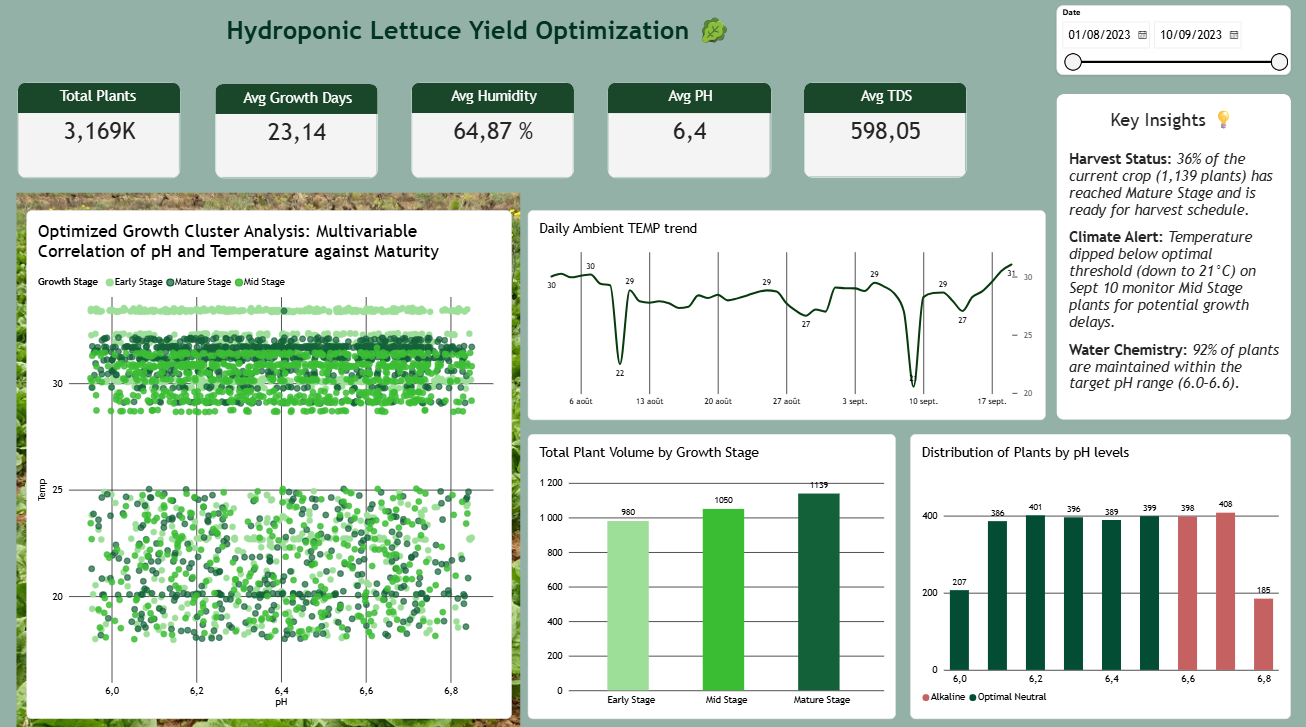

What the dashboard file says about the page in this screenshot:
{"tool":"powerbi","page":{"name":"Page 1","canvas":[1920,1080],"ordinal":0},"visuals":[{"type":"cardVisual","fields":{"Data":["Measures Table.Total Plants"]},"box":[28.2,122.7,238.6,140],"z":0,"group":"g1"},{"type":"cardVisual","fields":{"Data":["Measures Table.Average Humidity"]},"box":[605.4,122.7,238.6,140],"z":0,"group":"g3"},{"type":"cardVisual","fields":{"Data":["Measures Table.Average pH"]},"box":[892.8,122.7,240,140],"z":0,"group":"g4"},{"type":"cardVisual","fields":{"Data":["Measures Table.Average TDS"]},"box":[1181.1,122.7,238.5,139.5],"z":0,"group":"g5"},{"type":"cardVisual","fields":{"Data":["Measures Table.Average Growth Days"]},"box":[316.8,124.1,238.6,138.6],"z":0,"group":"g2"},{"type":"image","box":[25.7,284.3,739.2,796.1],"z":500},{"type":"textbox","box":[2,18,1405.8,94.7],"z":1000},{"type":"shape","box":[28.2,122.7,238.6,44.6],"z":1000,"group":"g1"},{"type":"shape","box":[605.4,122.7,238.6,44.6],"z":1000,"group":"g3"},{"type":"shape","box":[892.8,122.7,240,44.6],"z":1000,"group":"g4"},{"type":"shape","box":[1181.1,122.7,238.5,44.5],"z":1000,"group":"g5"},{"type":"shape","box":[316.8,124.1,238.6,44.2],"z":1000,"group":"g2"},{"type":"slicer","fields":{"Values":["Calendar.Date"]},"box":[1552,10,344,102],"z":2000},{"type":"textbox","box":[57,130.8,183,62.9],"z":2000,"group":"g1"},{"type":"textbox","box":[634.2,130.8,183,62.9],"z":2000,"group":"g3"},{"type":"textbox","box":[921.8,130.8,184.1,62.9],"z":2000,"group":"g4"},{"type":"textbox","box":[1209.9,130.8,183,62.7],"z":2000,"group":"g5"},{"type":"textbox","box":[345.6,132.1,183,62.3],"z":2000,"group":"g2"},{"type":"group","id":"g1","title":"Group 1","box":[28.2,122.7,238.6,140],"z":3000},{"type":"group","id":"g2","title":"Group 1","box":[316.8,124.1,238.6,138.6],"z":4000},{"type":"group","id":"g3","title":"Group 1","box":[605.4,122.7,238.6,140],"z":5000},{"type":"group","id":"g4","title":"Group 1","box":[892.8,122.7,240,140],"z":6000},{"type":"scatterChart","title":"Optimized Growth Cluster Analysis: Multivariable Correlation of pH and Temperature against Maturity","fields":{"Series":["lettuce_dataset_updated.Growth Stage Group"],"X":["lettuce_dataset_updated.Jittered pH"],"Y":["lettuce_dataset_updated.Jittered Temp"]},"box":[40.4,310,711.7,746.5],"z":7000},{"type":"lineStackedColumnComboChart","title":"Daily Ambient TEMP trend","fields":{"Y2":["Measures Table.Average Temperature"],"Category":["lettuce_dataset_updated.Date"]},"box":[776,310,760,308],"z":8000},{"type":"group","id":"g5","title":"Group 1","box":[1181.1,122.7,237.1,140],"z":9000},{"type":"lineStackedColumnComboChart","title":"Distribution of Plants by pH levels","fields":{"Category":["lettuce_dataset_updated.pH Level"],"Y":["CountNonNull(lettuce_dataset_updated.Plant_ID)"],"Series":["lettuce_dataset_updated.pH_Category"]},"box":[1338,638,558,418],"z":10000},{"type":"columnChart","title":"Total Plant Volume by Growth Stage","fields":{"Y":["CountNonNull(lettuce_dataset_updated.Plant_ID)"],"Category":["lettuce_dataset_updated.Growth Stage Group"]},"box":[776,638,540,418],"z":11000},{"type":"shape","box":[1552,140,344,478],"z":12000},{"type":"textbox","box":[1604,158,240,64],"z":13000},{"type":"textbox","box":[1570,222,308,376],"z":14000}]}

Visuals, with their boxes in screenshot pixels (x1, y1, x2, y2), scaled from the page's 1920x1080 canvas onto the 1306x727 screenshot:
cardVisual - Measures Table.Total Plants: {"x1": 19, "y1": 83, "x2": 181, "y2": 177}
cardVisual - Measures Table.Average Humidity: {"x1": 412, "y1": 83, "x2": 574, "y2": 177}
cardVisual - Measures Table.Average pH: {"x1": 607, "y1": 83, "x2": 771, "y2": 177}
cardVisual - Measures Table.Average TDS: {"x1": 803, "y1": 83, "x2": 966, "y2": 176}
cardVisual - Measures Table.Average Growth Days: {"x1": 215, "y1": 84, "x2": 378, "y2": 177}
image: {"x1": 17, "y1": 191, "x2": 520, "y2": 726}
textbox: {"x1": 1, "y1": 12, "x2": 958, "y2": 76}
shape: {"x1": 19, "y1": 83, "x2": 181, "y2": 113}
shape: {"x1": 412, "y1": 83, "x2": 574, "y2": 113}
shape: {"x1": 607, "y1": 83, "x2": 771, "y2": 113}
shape: {"x1": 803, "y1": 83, "x2": 966, "y2": 113}
shape: {"x1": 215, "y1": 84, "x2": 378, "y2": 113}
slicer - Calendar.Date: {"x1": 1056, "y1": 7, "x2": 1290, "y2": 75}
textbox: {"x1": 39, "y1": 88, "x2": 163, "y2": 130}
textbox: {"x1": 431, "y1": 88, "x2": 556, "y2": 130}
textbox: {"x1": 627, "y1": 88, "x2": 752, "y2": 130}
textbox: {"x1": 823, "y1": 88, "x2": 947, "y2": 130}
textbox: {"x1": 235, "y1": 89, "x2": 360, "y2": 131}
"Group 1" group: {"x1": 19, "y1": 83, "x2": 181, "y2": 177}
"Group 1" group: {"x1": 215, "y1": 84, "x2": 378, "y2": 177}
"Group 1" group: {"x1": 412, "y1": 83, "x2": 574, "y2": 177}
"Group 1" group: {"x1": 607, "y1": 83, "x2": 771, "y2": 177}
"Optimized Growth Cluster Analysis: Multivariable Correlation of pH and Temperature against Maturity" scatterChart: {"x1": 27, "y1": 209, "x2": 512, "y2": 711}
"Daily Ambient TEMP trend" lineStackedColumnComboChart: {"x1": 528, "y1": 209, "x2": 1045, "y2": 416}
"Group 1" group: {"x1": 803, "y1": 83, "x2": 965, "y2": 177}
"Distribution of Plants by pH levels" lineStackedColumnComboChart: {"x1": 910, "y1": 429, "x2": 1290, "y2": 711}
"Total Plant Volume by Growth Stage" columnChart: {"x1": 528, "y1": 429, "x2": 895, "y2": 711}
shape: {"x1": 1056, "y1": 94, "x2": 1290, "y2": 416}
textbox: {"x1": 1091, "y1": 106, "x2": 1254, "y2": 149}
textbox: {"x1": 1068, "y1": 149, "x2": 1277, "y2": 403}
